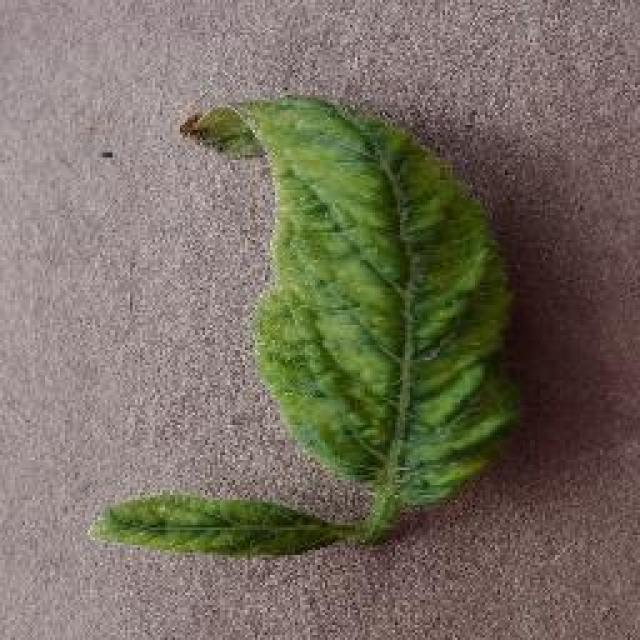Tomato yellow virus leaf: (180, 95, 518, 510), (86, 492, 346, 568)
